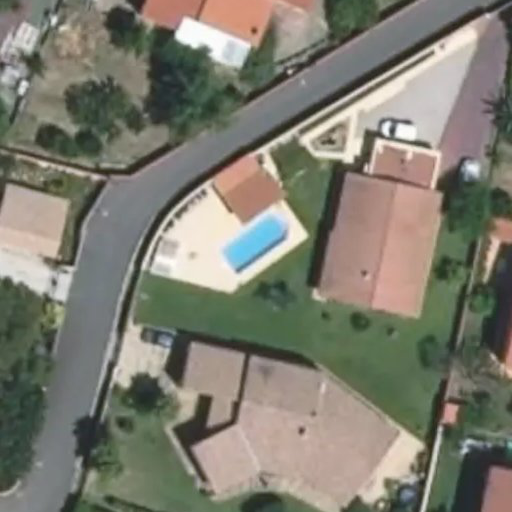pool: (221, 210, 289, 277)
